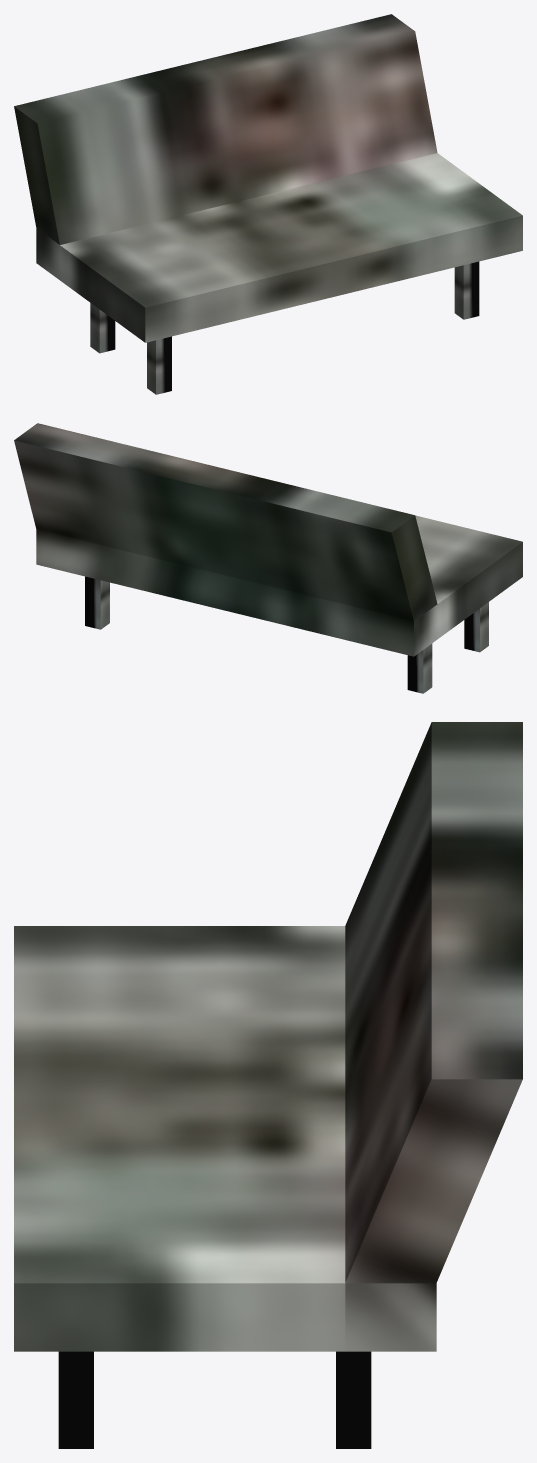
File: bench.fbx
The picture shows the model from 3 angles, top to bottom: view 1: azimuth 30°, elevation 25°; view 2: azimuth 150°, elevation 25°; view 3: azimuth 270°, elevation 25°; orthographic projection. The views are drawn at different scales.
Parts seen in each view (by area): view 1: penkki; view 2: penkki; view 3: penkki.
Part boxes in pixels (x1,y1,x2,y2): penkki: [14, 14, 522, 394]; penkki: [14, 423, 522, 693]; penkki: [14, 722, 522, 1448].
Bounding box in the file's own units: 1.5 × 0.7834 × 0.9035.
